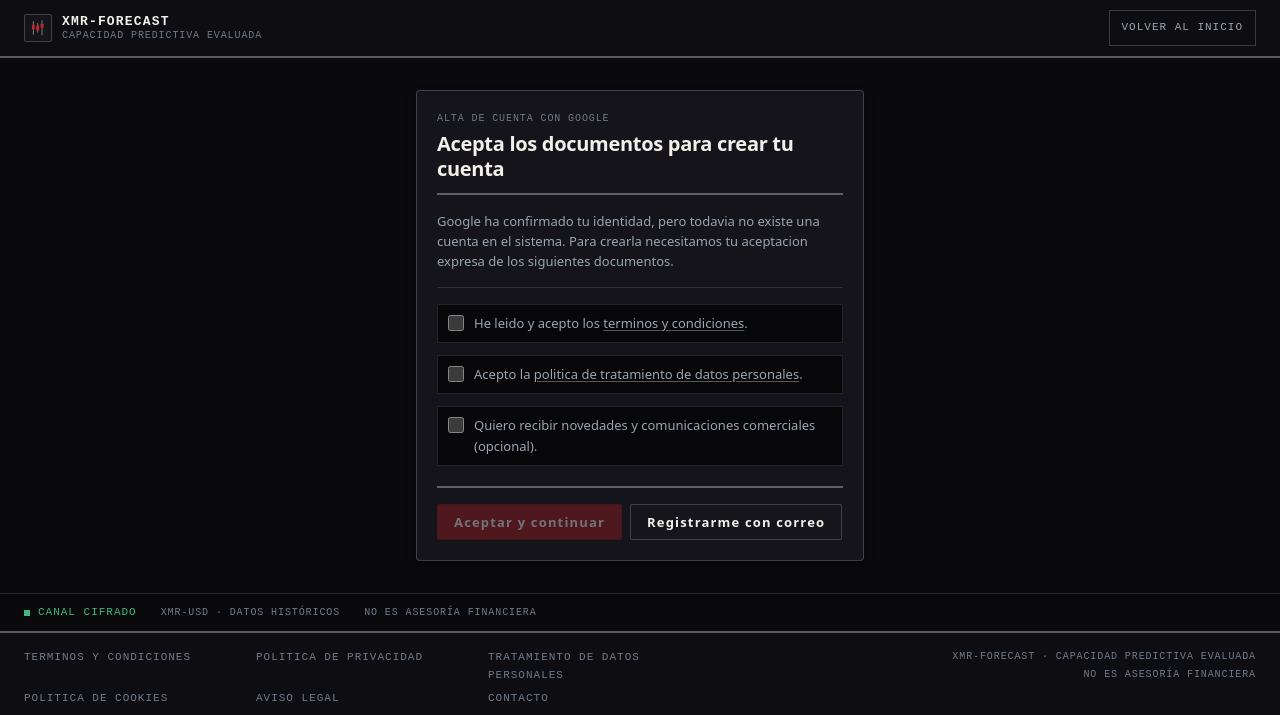
Scenario: Google consent gate › asks for both consents before creating an account, none pre-ticked
Expected: the element with test id "google-consent" is shown, [437,287,843,466]
Expected: the checkbox with test id "google-accept-data-policy" is not checked, [448,366,464,382]
Step 1. Click the checkbox with test id "google-accept-terms" → coordinates (456, 323), box [448,315,464,331]
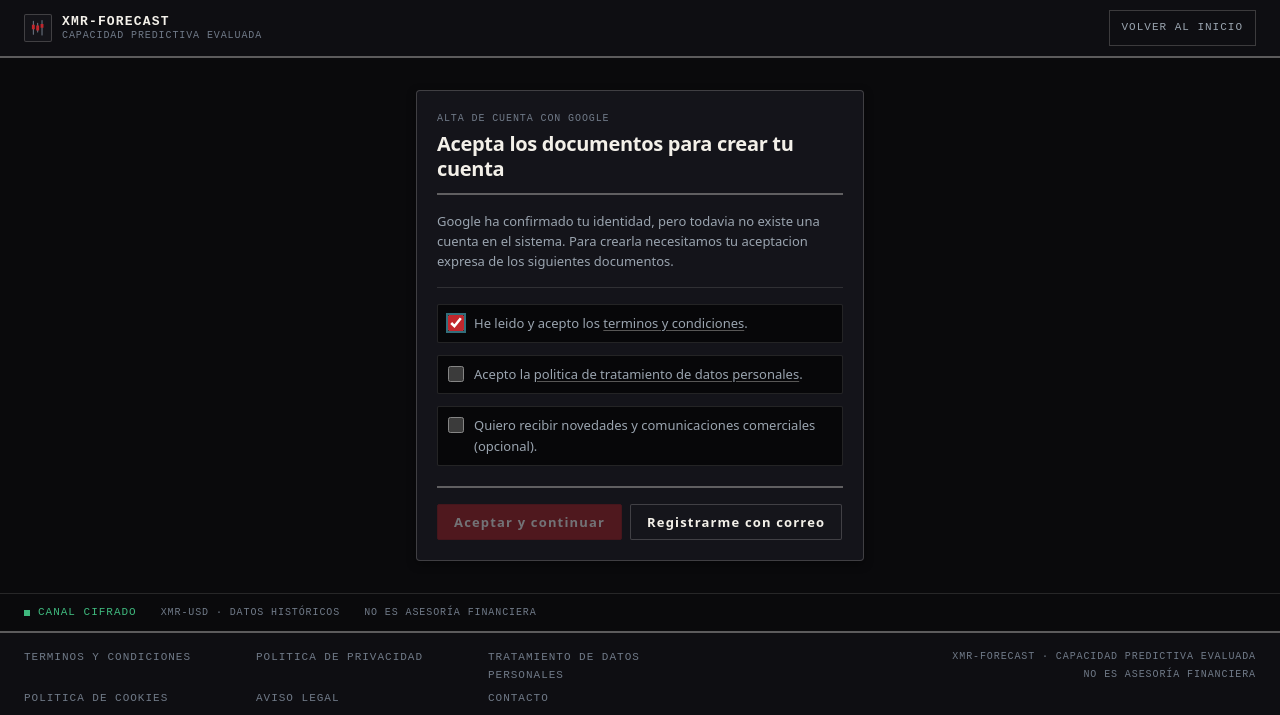
Expected: the button with test id "google-consent-retry" is disabled, [437,504,622,540]
Step 2. Click the checkbox with test id "google-accept-data-policy" → coordinates (456, 374), box [448,366,464,382]
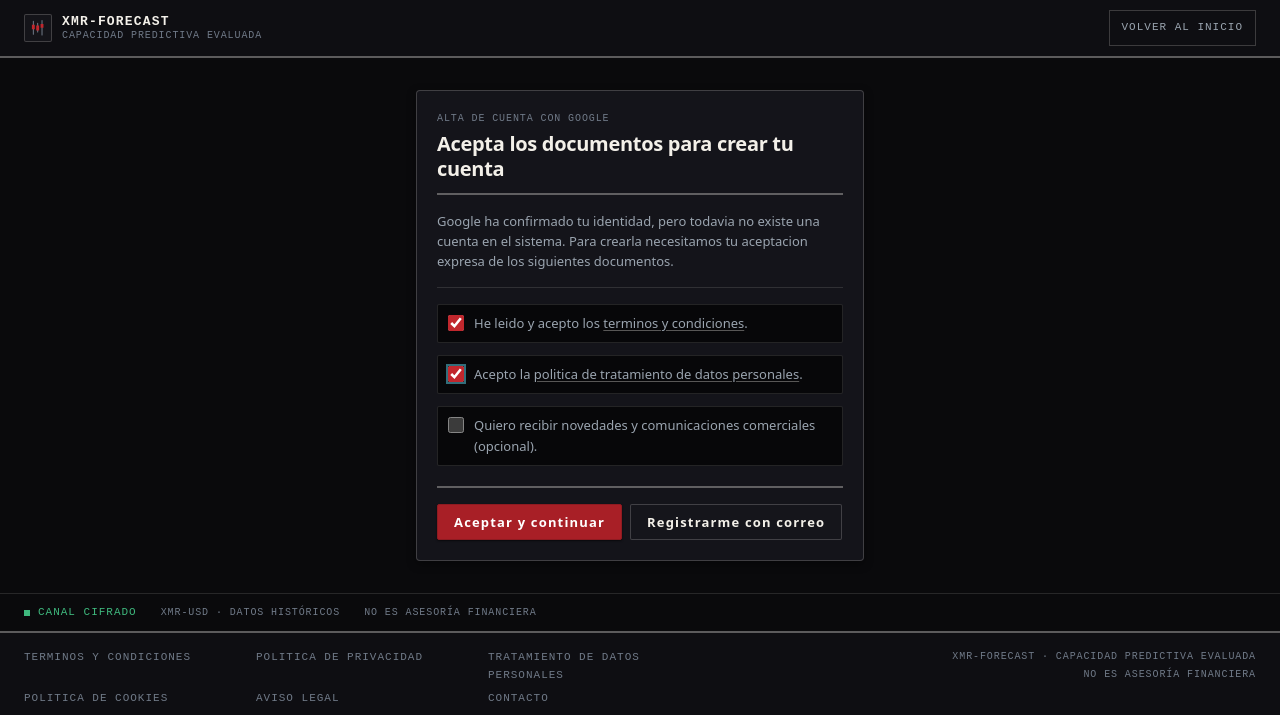
Result: the button with test id "google-consent-retry" is enabled at [437,504,622,540]
